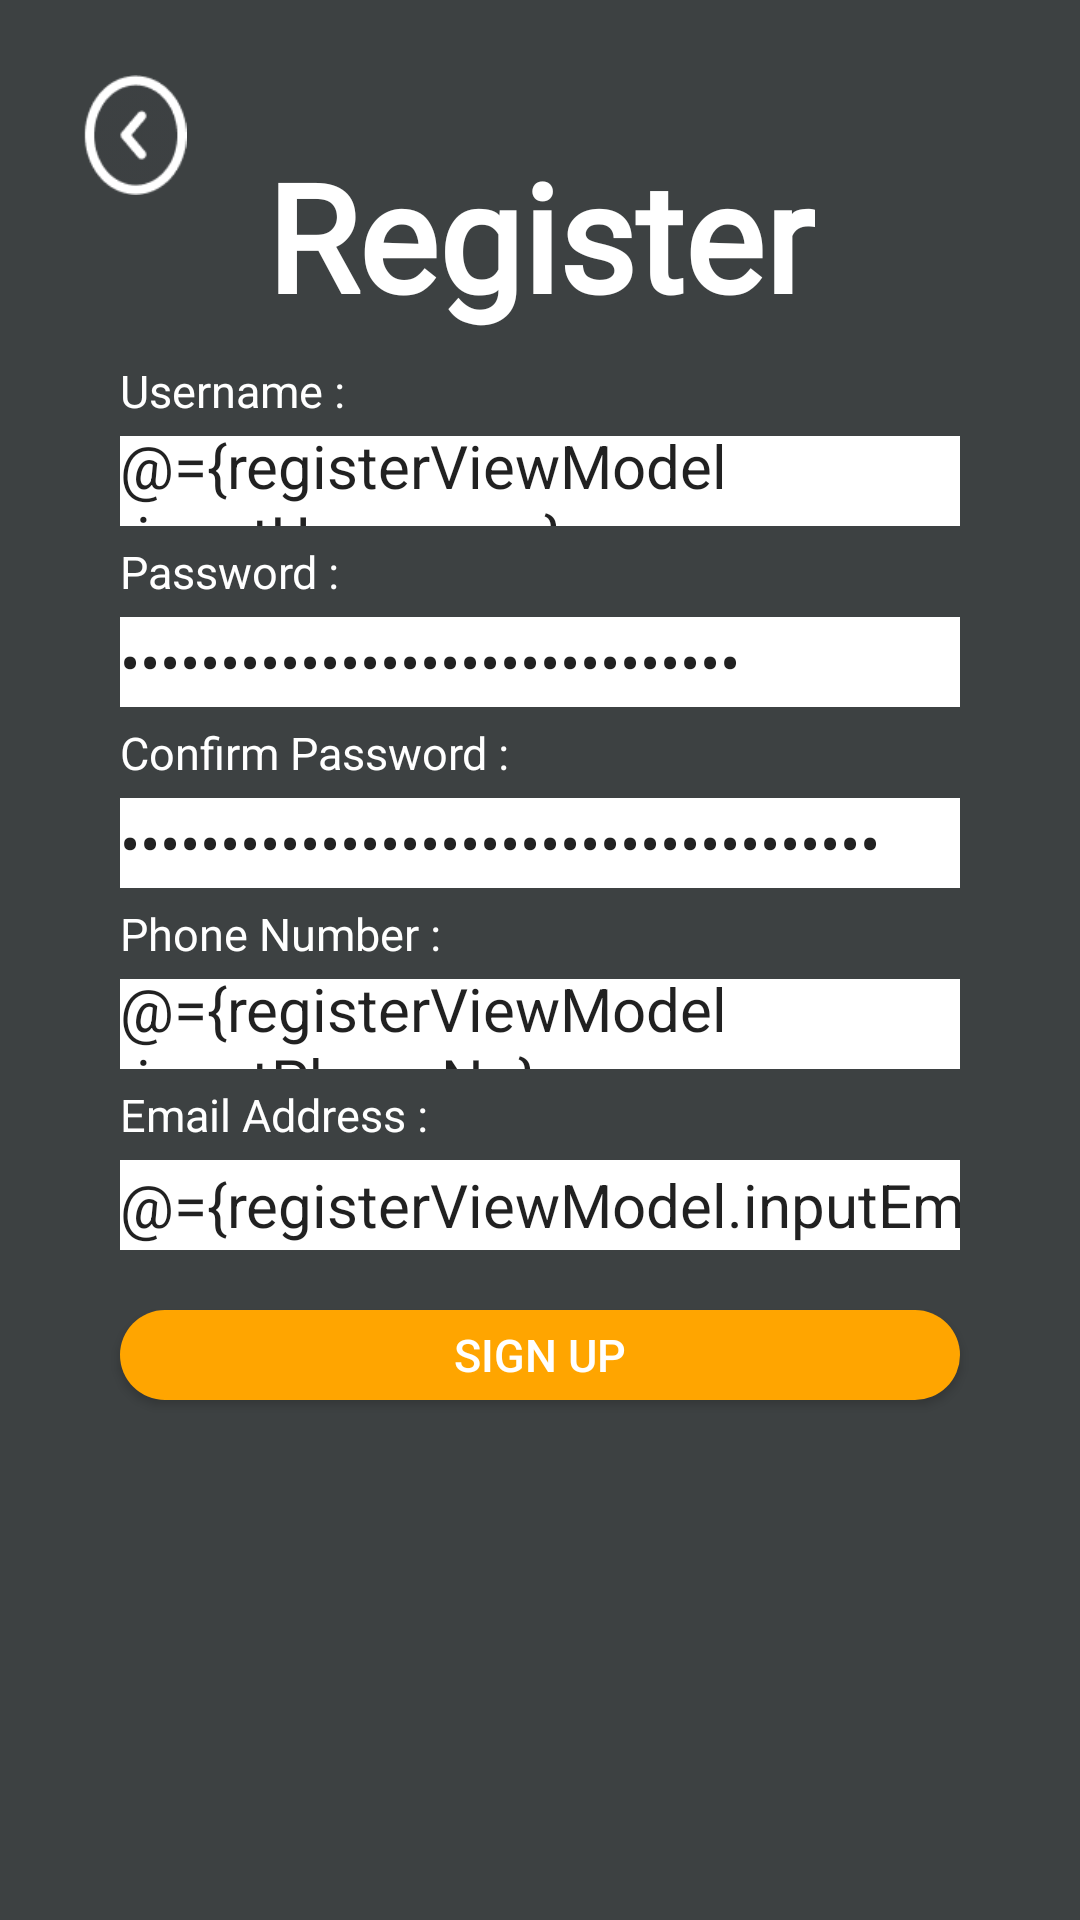

Icon click points for this 1080 x 1920 phone screenshot, format (x=x, y=y):
back: (x=135, y=135)
